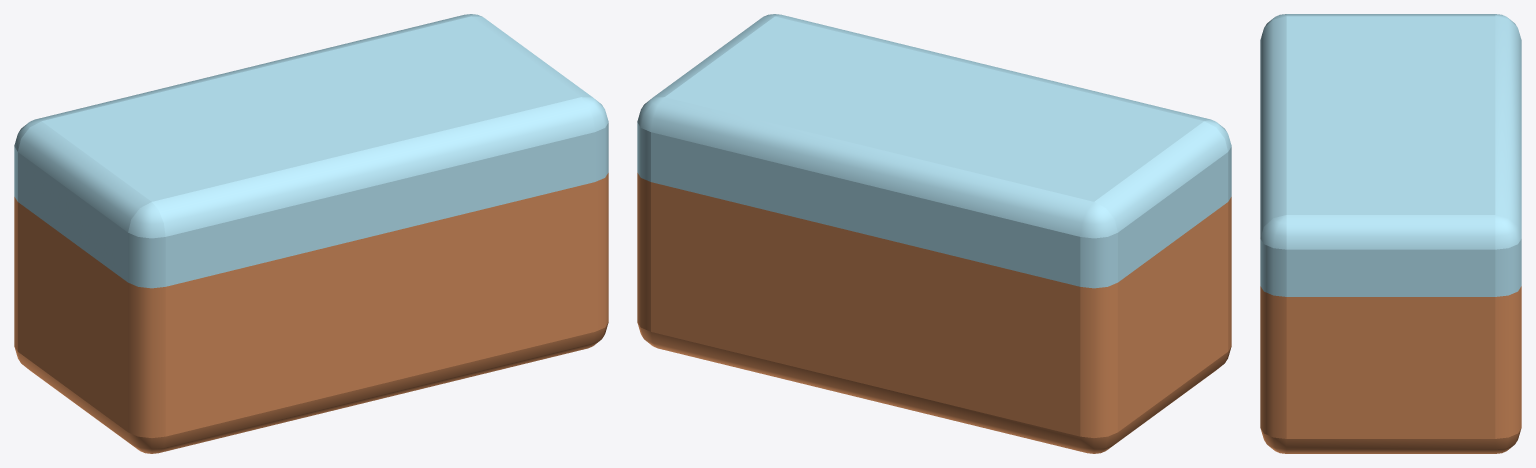
File: blockSnowRoundedLong.obj
3 renders of one model, left to right at view 1: azimuth 30°, elevation 25°; view 2: azimuth 150°, elevation 25°; view 3: azimuth 270°, elevation 25°, orthographic. The views are drawn at different scales.
Visible parts, largest first — view 1: blockSnowRoundedLong; view 2: blockSnowRoundedLong; view 3: blockSnowRoundedLong.
Part boxes in pixels (left/top/right/bottom): blockSnowRoundedLong: left=14, top=14, right=608, bottom=453; blockSnowRoundedLong: left=637, top=14, right=1231, bottom=453; blockSnowRoundedLong: left=1260, top=14, right=1521, bottom=453.
Bounding box in the file's own units: 2 × 1 × 1.
